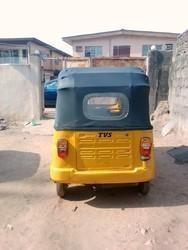keke: (49, 66, 160, 209)
